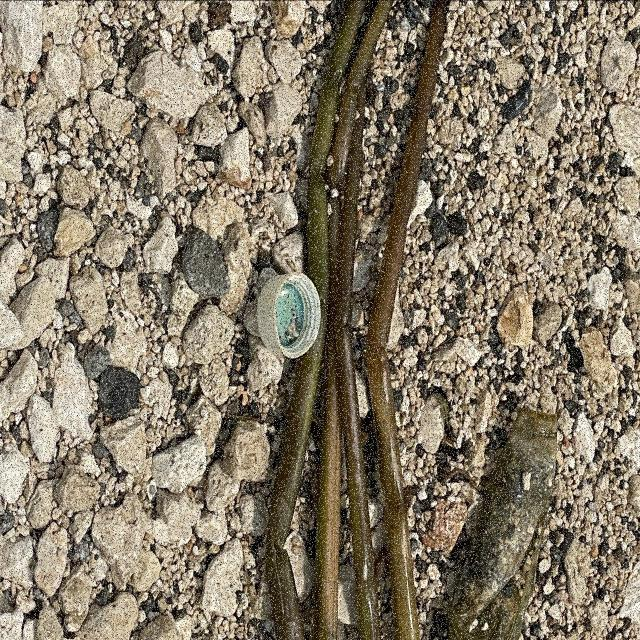plastic_waste: (257, 272, 322, 359)
